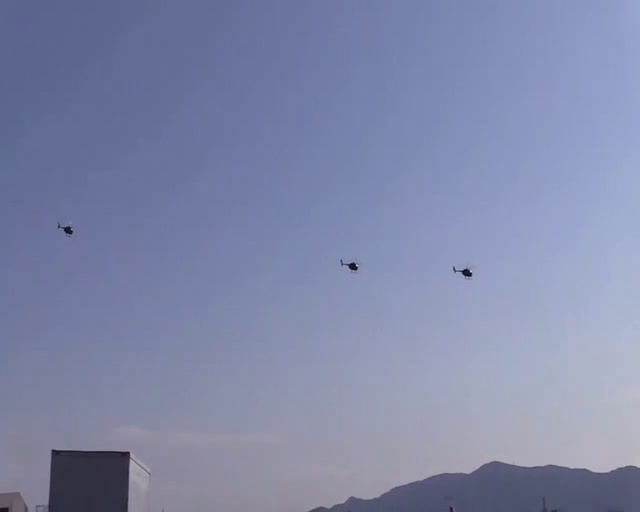HELICOPTER: (452, 264, 473, 278)
